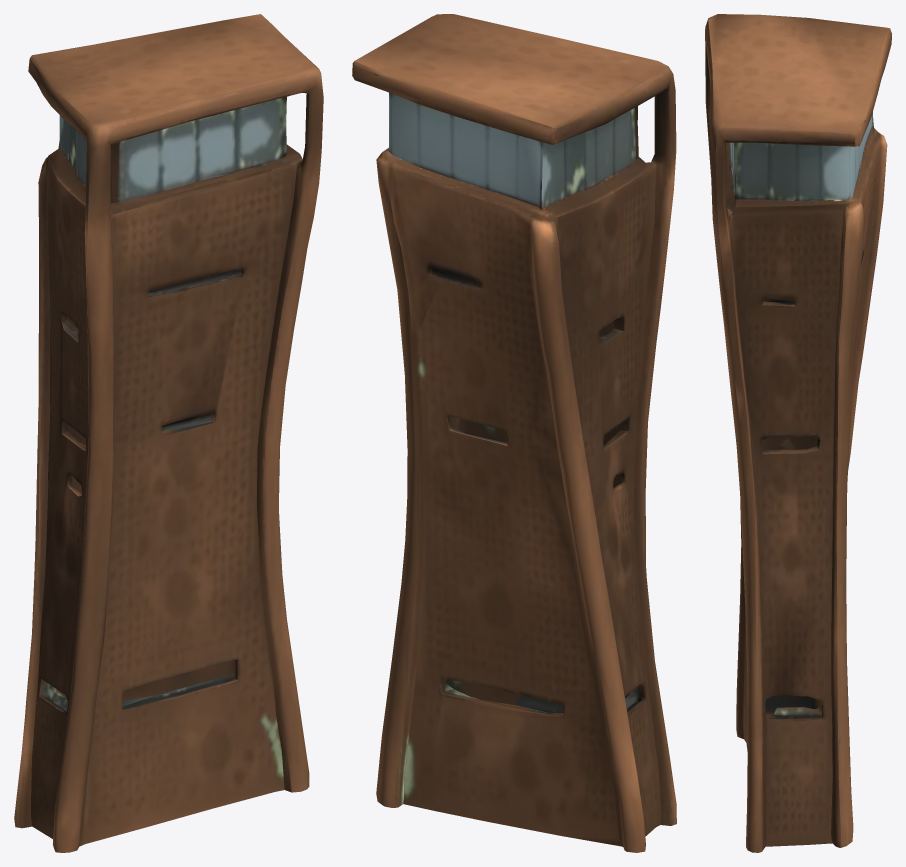
Rendered from w7v-de-young-tower.glb.
3 renders of one model, left to right at view 1: azimuth 30°, elevation 25°; view 2: azimuth 150°, elevation 25°; view 3: azimuth 270°, elevation 25°, orthographic. The views are drawn at different scales.
Parts seen in each view (by area): view 1: w7v-de-young-tower; view 2: w7v-de-young-tower; view 3: w7v-de-young-tower.
Part boxes in pixels (x1=…): w7v-de-young-tower: x1=14, y1=14, x2=323, y2=852; w7v-de-young-tower: x1=352, y1=14, x2=676, y2=852; w7v-de-young-tower: x1=705, y1=14, x2=891, y2=852.
Size of the model in its own units: 4.3 by 11.15 by 2.6.
1 material, 1 textured.
